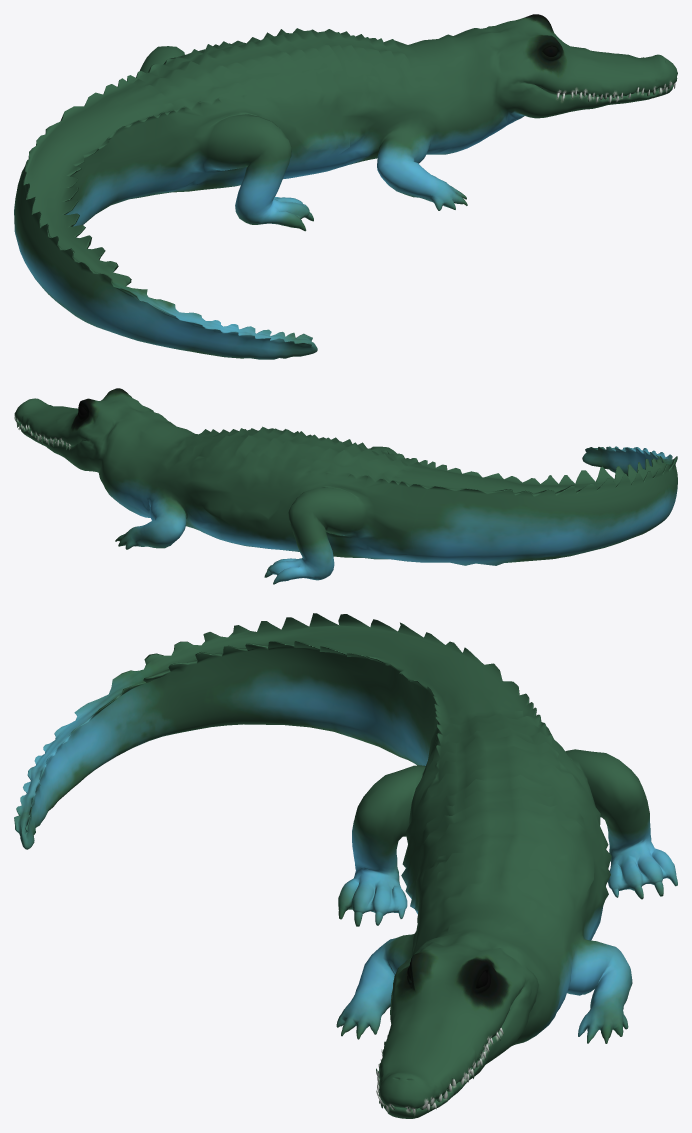
File: crocodile.fbx
3 renders of one model, top to bottom at view 1: azimuth 30°, elevation 25°; view 2: azimuth 150°, elevation 25°; view 3: azimuth 270°, elevation 25°, orthographic. The views are drawn at different scales.
Parts seen in each view (by area): view 1: node_id30; view 2: node_id30; view 3: node_id30.
Boxes of the visible parts, bbox=[...] form: node_id30: bbox=[14, 14, 677, 359]; node_id30: bbox=[14, 388, 677, 584]; node_id30: bbox=[14, 613, 677, 1118].
Size of the model in its own units: 0.7706 by 0.1592 by 0.5141.
1 material, 1 textured.
